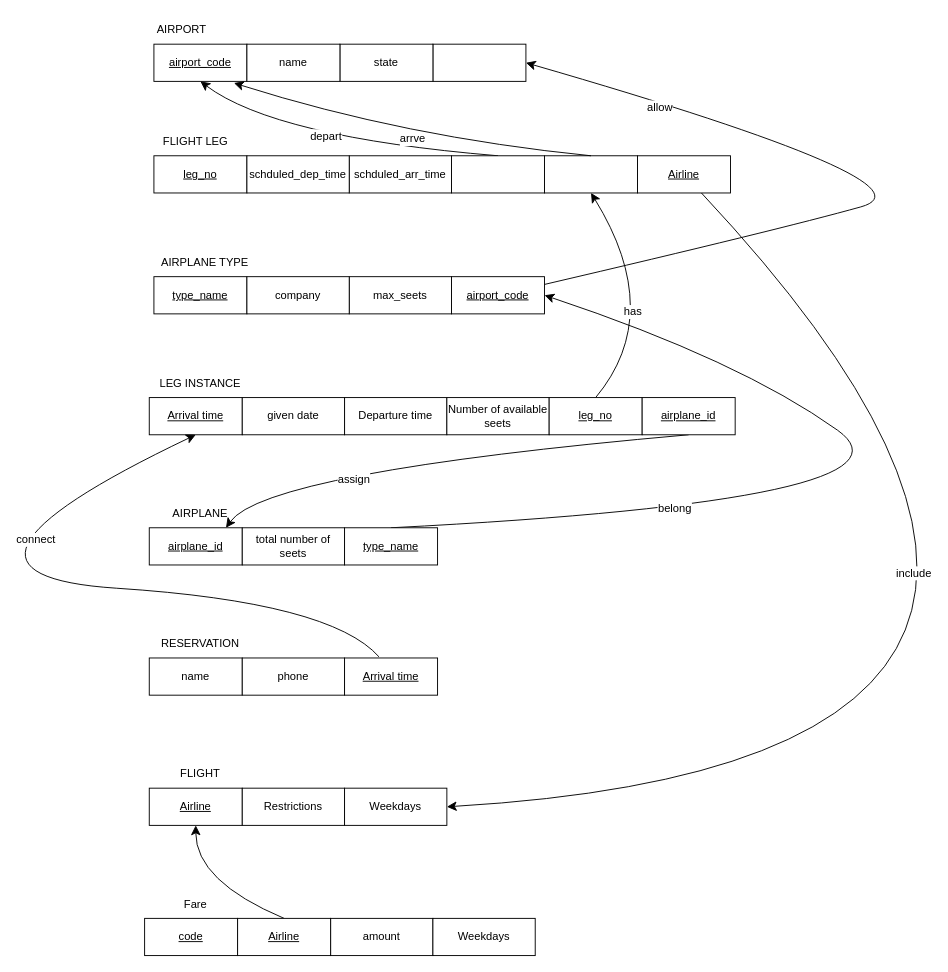
This 948x972 diagram has some shape labels left out. Here are the shapes that lost their labels. From the top down, the centre of each, then its label:
[479,62]: city
[498,174]: depart_code
[591,174]: arrive_code
